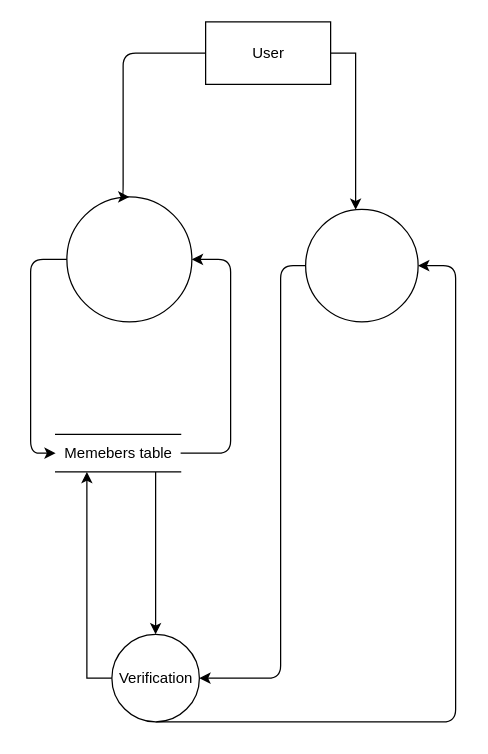
This 488x754 diagram has some shape labels left out. The centre of each missing label's shape, as x and y in pixels:
"Authenticationt & Autorization" belongs at point 129,259.
"Registration" belongs at point 361,265.
